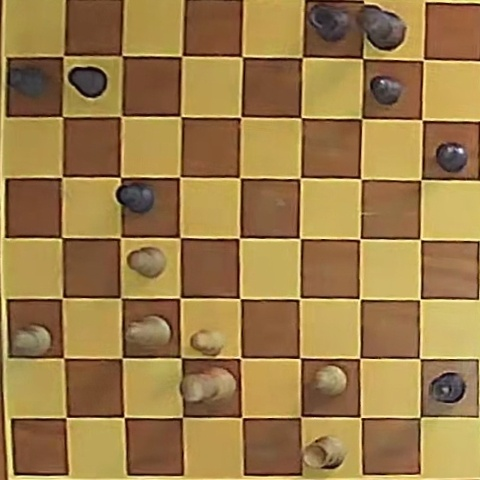black-king: (358, 5, 406, 50)
black-pawn: (68, 66, 107, 99), (9, 66, 47, 98), (117, 183, 154, 213), (436, 142, 468, 173), (371, 76, 403, 105)
black-rook: (308, 4, 350, 42), (430, 372, 466, 405)
white-bishop: (127, 315, 171, 348)
white-king: (181, 368, 236, 403)
white-pawn: (12, 325, 51, 356), (128, 247, 166, 278), (314, 365, 347, 395), (191, 329, 225, 355)
white-rook: (303, 436, 346, 470)
